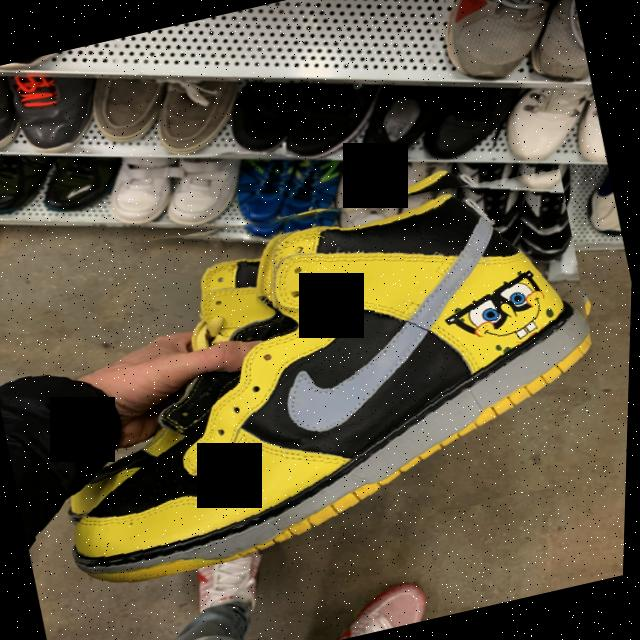shoe: (0, 138, 631, 602)
